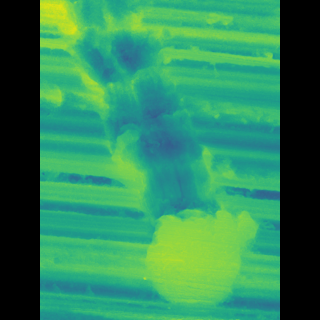Loch: (75, 0, 237, 317)
